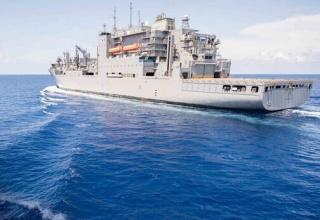warship: (48, 1, 312, 113)
